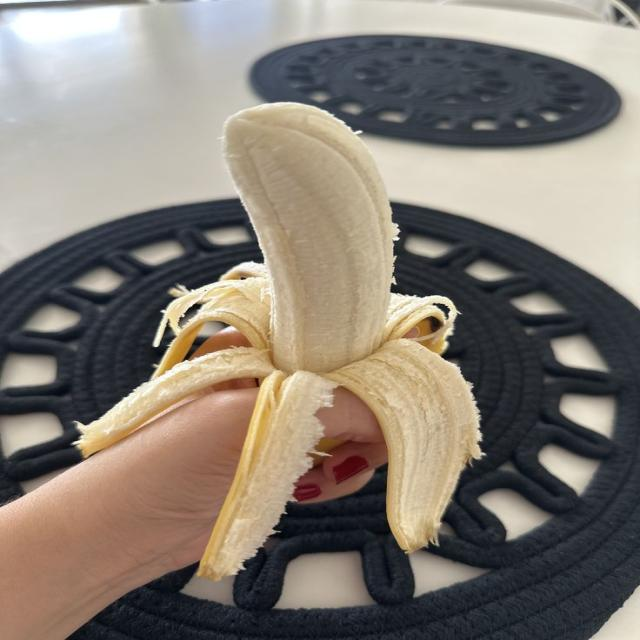banana: (76, 104, 480, 579)
